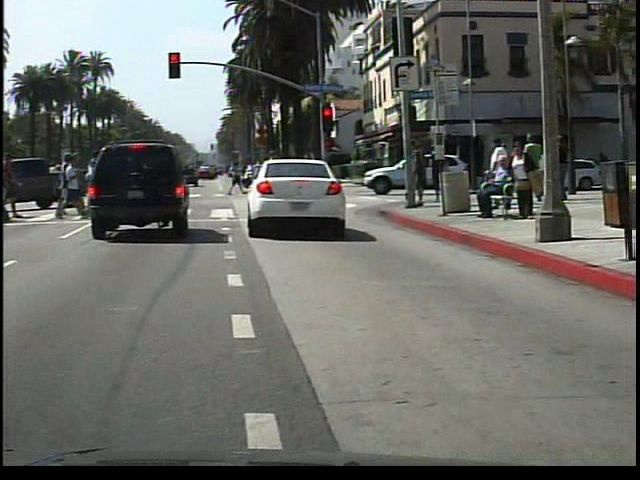person: (512, 139, 547, 224), (478, 156, 519, 217), (248, 145, 281, 216)
